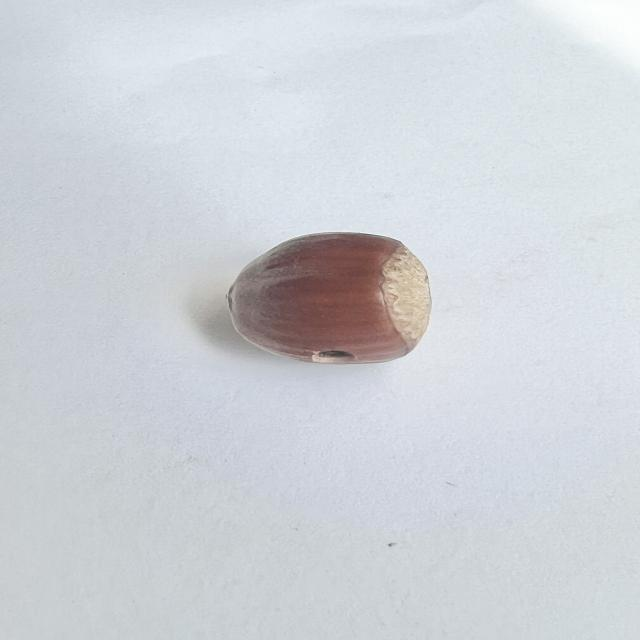hazelnut: (215, 205, 441, 380)
